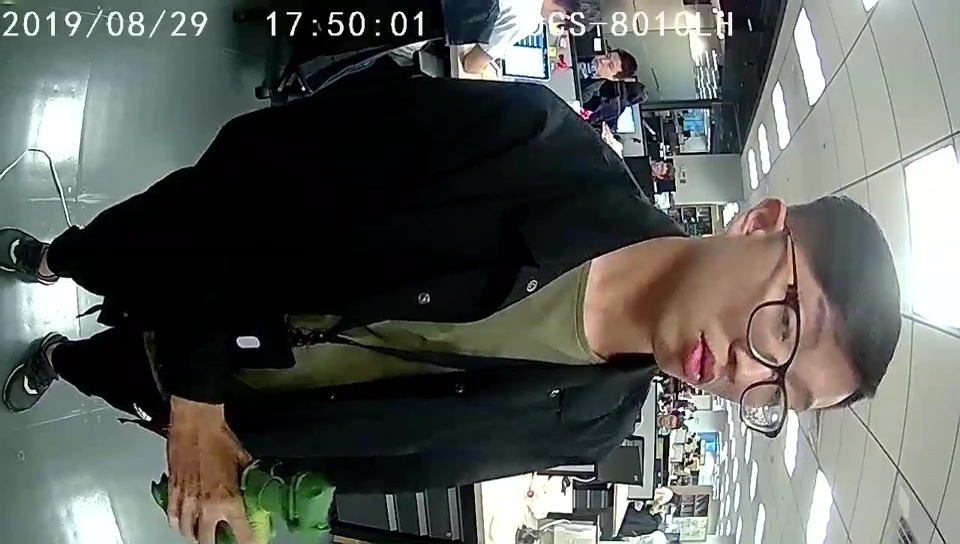rex: (147, 458, 337, 544)
